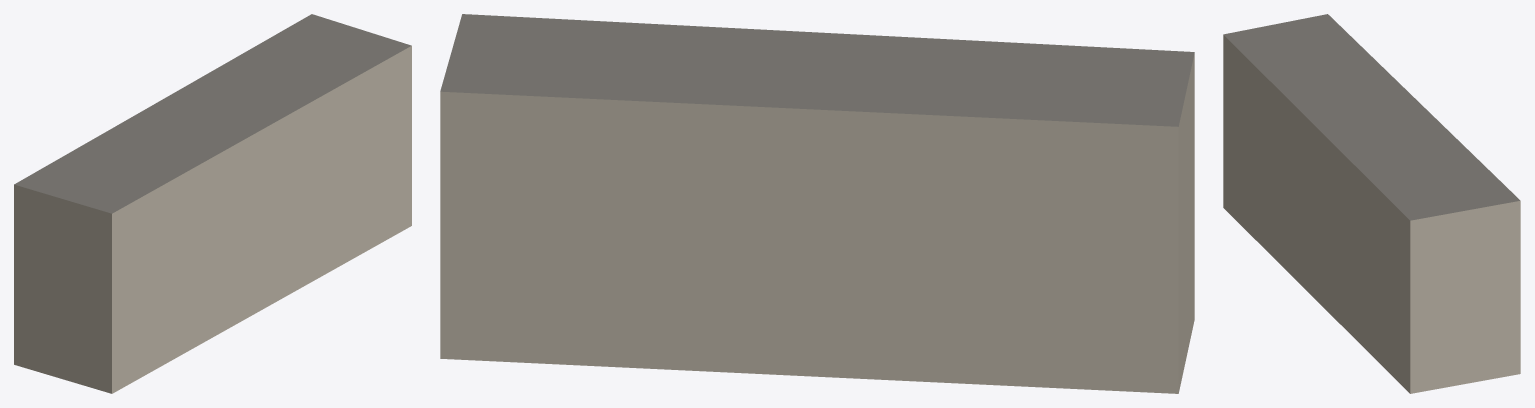
3 views of the same model, side by side, from view 1: azimuth 30°, elevation 25°; view 2: azimuth 150°, elevation 25°; view 3: azimuth 270°, elevation 25° (orthographic). The views are drawn at different scales.
Visible parts, largest first — view 1: HP-w505649242; view 2: HP-w505649242; view 3: HP-w505649242.
Boxes of the visible parts, <box> form: HP-w505649242: <box>14,14,411,393</box>; HP-w505649242: <box>440,14,1194,393</box>; HP-w505649242: <box>1223,14,1520,393</box>.
Bounding box in the file's own units: 46.05 × 18 × 28.01.
